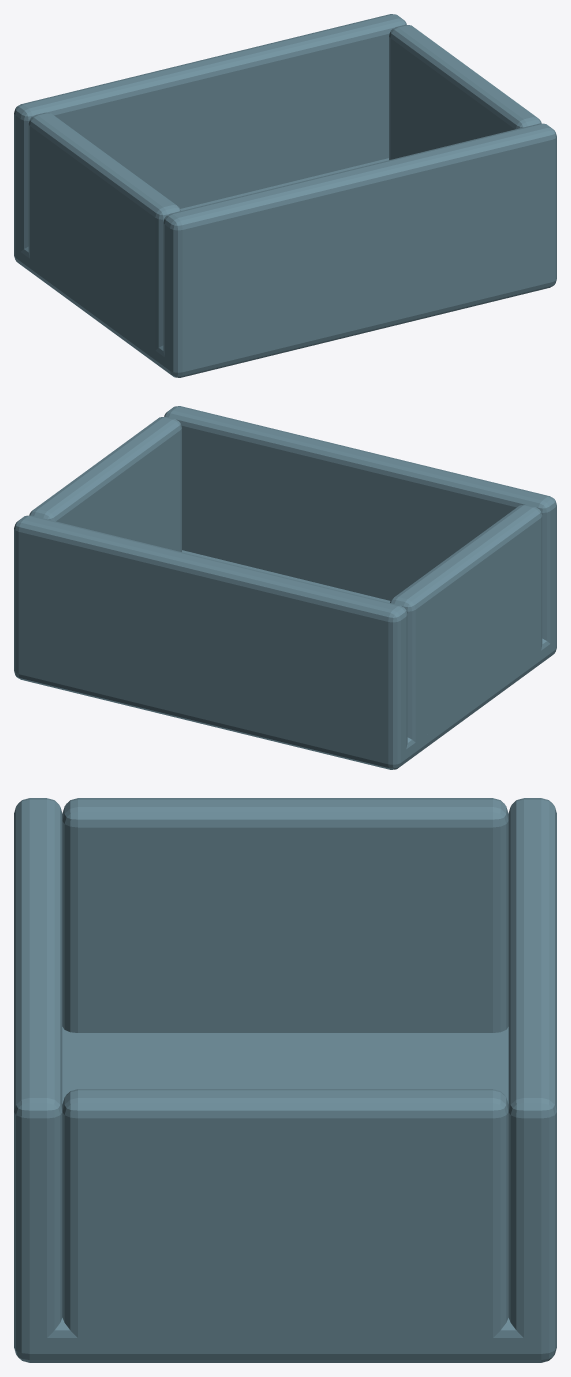
File: dexverse_authored_open_bin.glb
3 views of the same model, one above another, from view 1: azimuth 30°, elevation 25°; view 2: azimuth 150°, elevation 25°; view 3: azimuth 270°, elevation 25° (orthographic). The views are drawn at different scales.
Visible parts, largest first — view 1: bin_front, bin_back, bin_left, bin_right, bin_bottom; view 2: bin_back, bin_front, bin_left, bin_right, bin_bottom; view 3: bin_right, bin_left, bin_bottom, bin_back, bin_front.
Boxes of the visible parts, <box> form: bin_front: <box>163,123,556,377</box>; bin_back: <box>14,14,406,266</box>; bin_left: <box>28,112,180,358</box>; bin_right: <box>389,24,541,159</box>; bin_bottom: <box>14,158,556,377</box>; bin_back: <box>14,515,407,766</box>; bin_front: <box>164,406,556,647</box>; bin_left: <box>390,504,542,755</box>; bin_right: <box>29,416,181,551</box>; bin_bottom: <box>14,550,556,769</box>; bin_right: <box>62,1089,508,1362</box>; bin_left: <box>62,798,508,1032</box>; bin_bottom: <box>14,1027,556,1362</box>; bin_back: <box>508,798,556,1354</box>; bin_front: <box>14,798,62,1362</box>.
Size of the model in its own units: 0.38 by 0.15 by 0.28.
